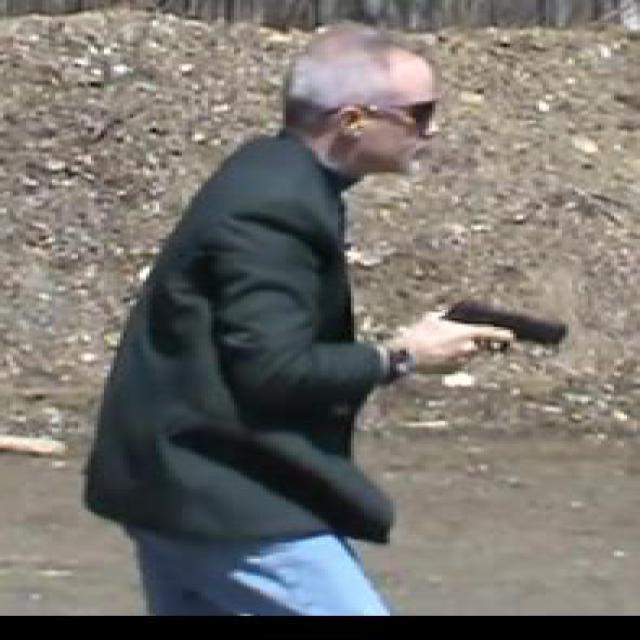gun: (426, 298, 568, 372)
